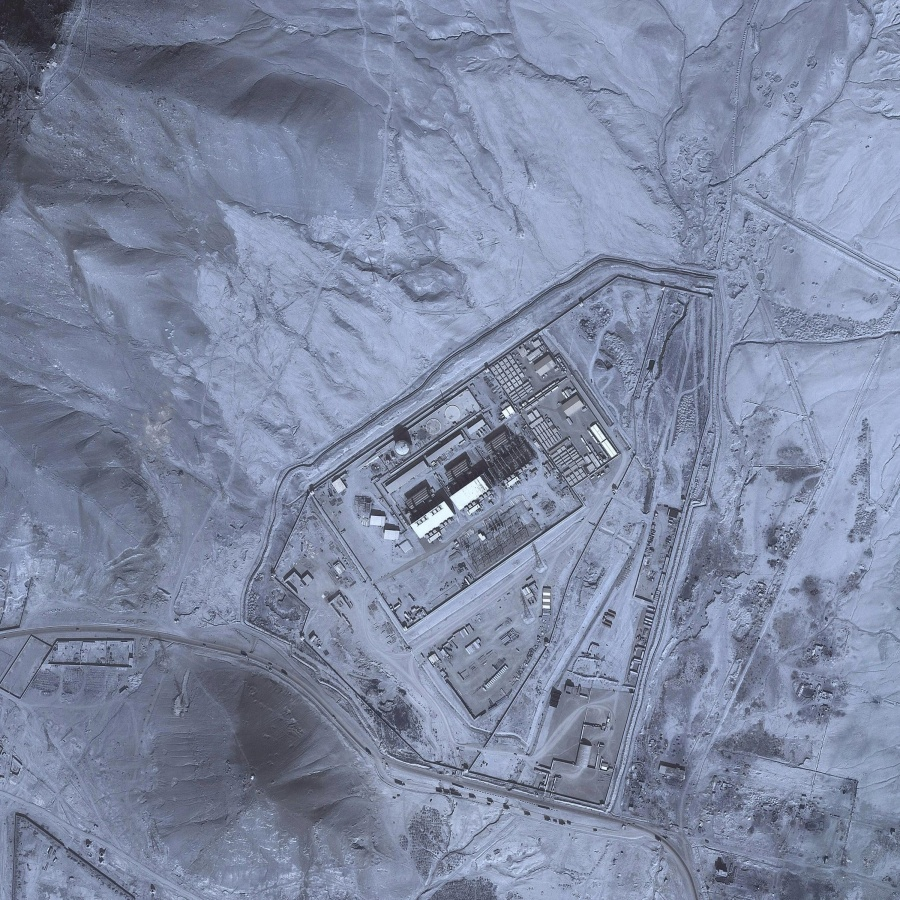PowerPlant: (368, 358, 617, 542)
